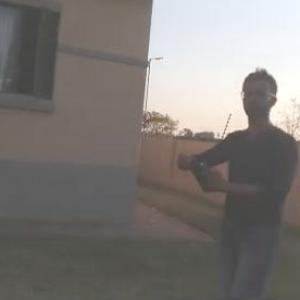follow: (171, 62, 299, 299)
